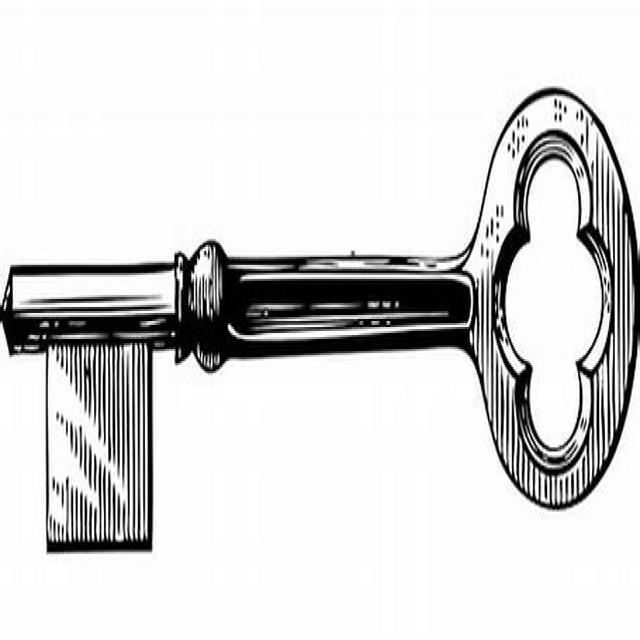key: (1, 95, 640, 564)
